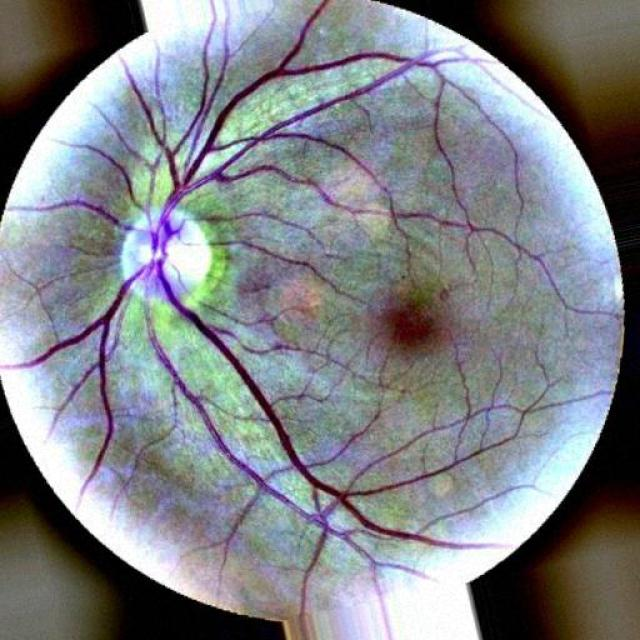Macula: (388, 305, 431, 346)
Nerves: (0, 0, 495, 548), (206, 210, 329, 281)
Optic Disk: (121, 209, 219, 309)
